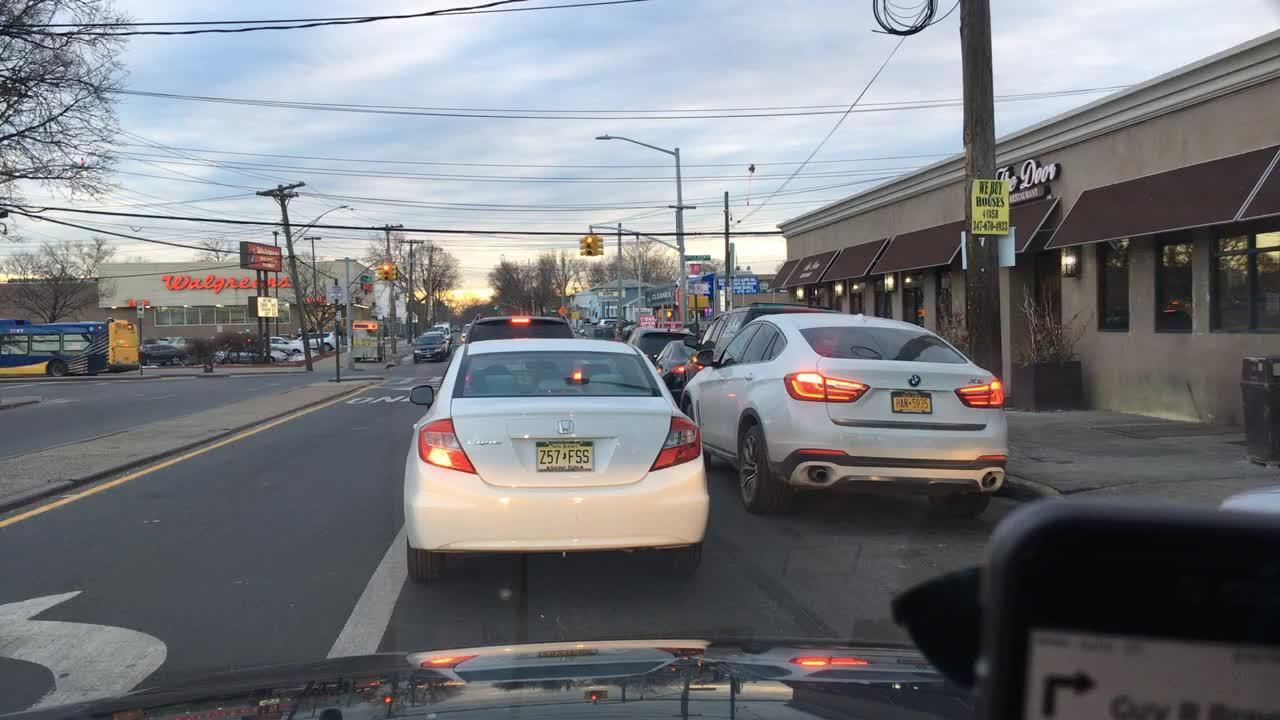bmw: (897, 368, 931, 393)
